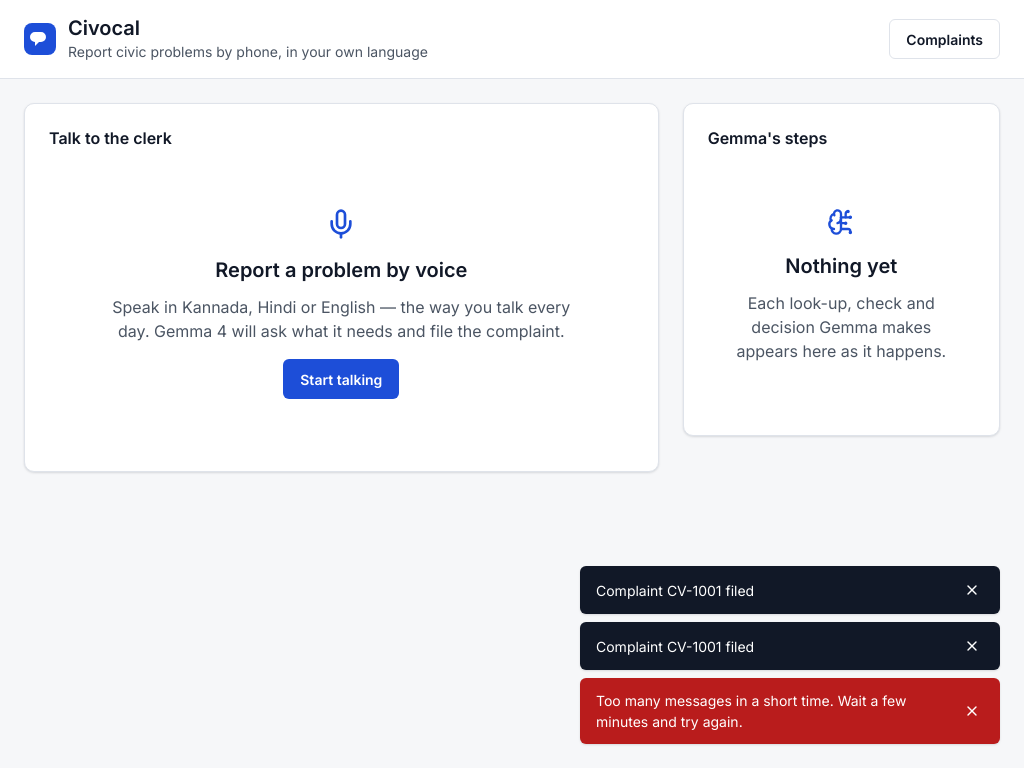
Test: survives browsers whose scrollIntoView returns a Promise (newer Chrome)
Click the button "Start talking" at point(341, 379), box x1=283 y1=359 x2=399 y2=399
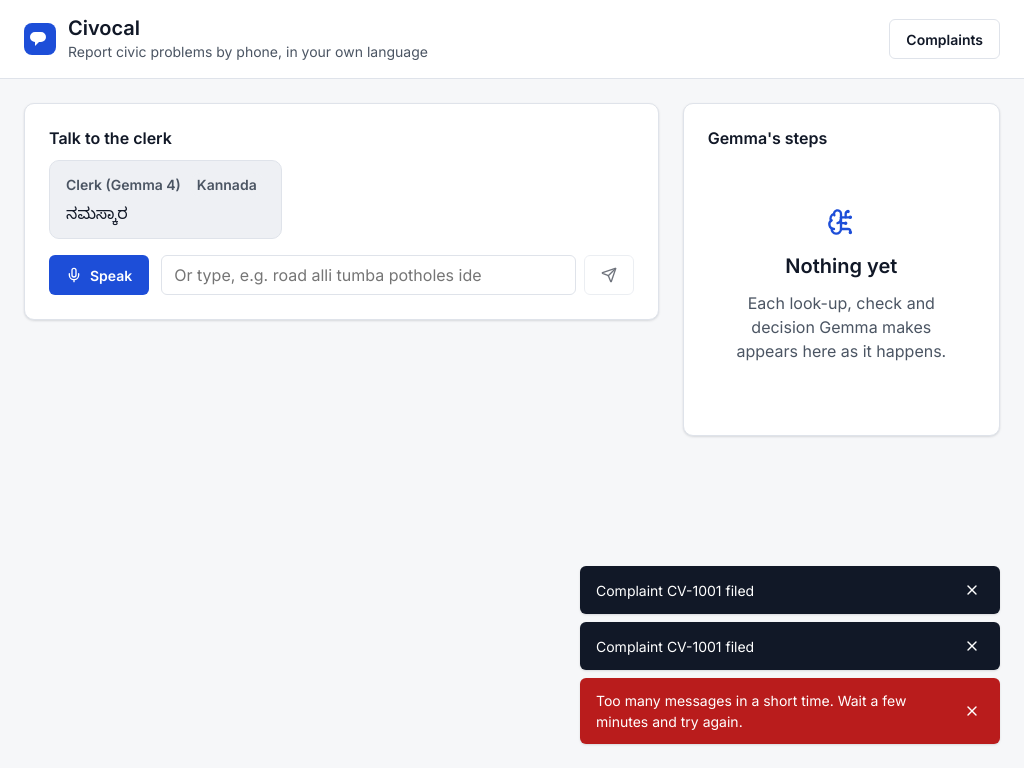
Type "hi" into the field named "Or type your message" at point(368, 275), box x1=161 y1=255 x2=576 y2=295
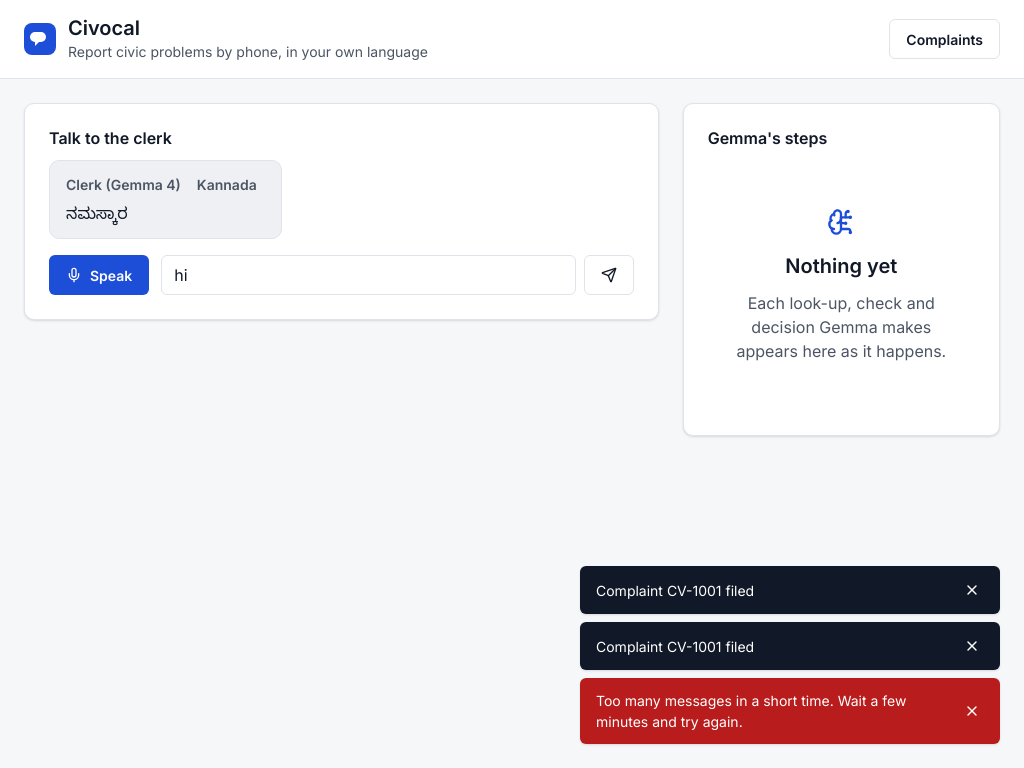
Click the button named "Send message" at point(609, 275), box x1=584 y1=255 x2=634 y2=295
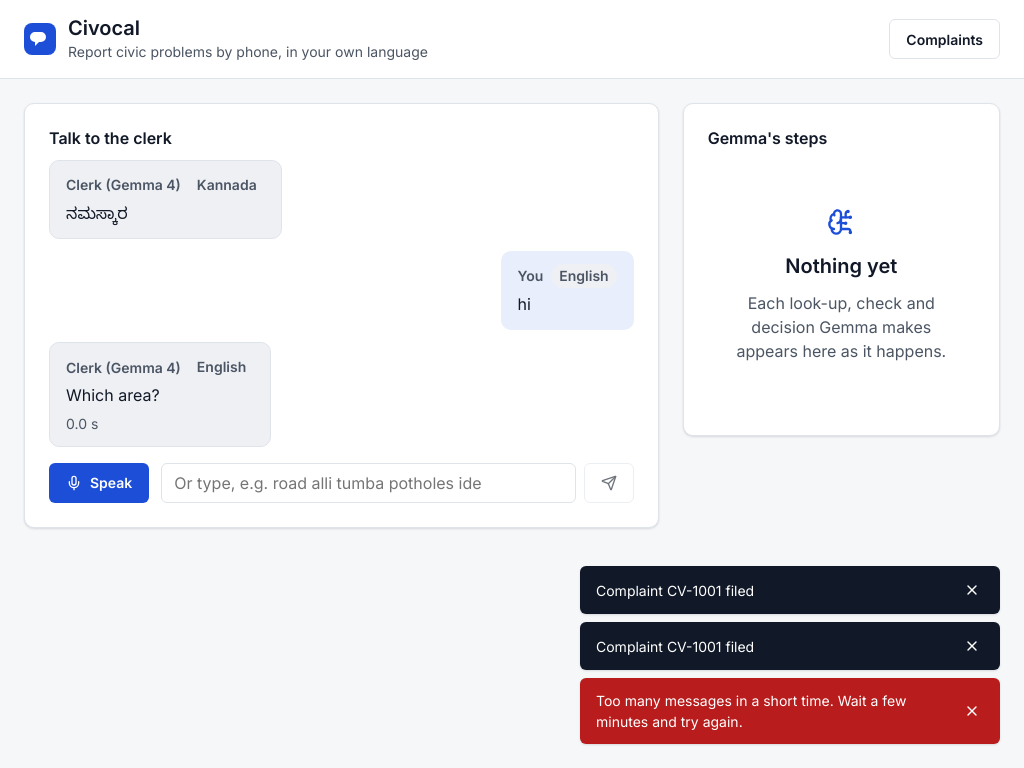
Result: the text "Which area?" is shown at x1=66 y1=385 x2=160 y2=405
